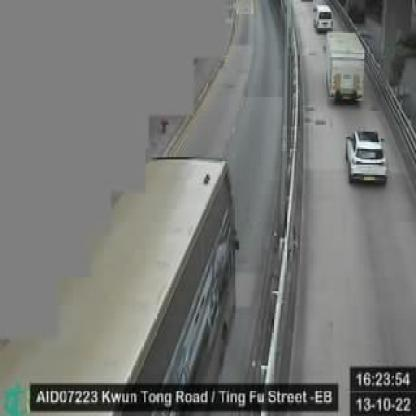Bus: (0, 153, 238, 410)
Car: (344, 128, 390, 190), (314, 5, 334, 35)
Truck: (325, 30, 365, 108)
